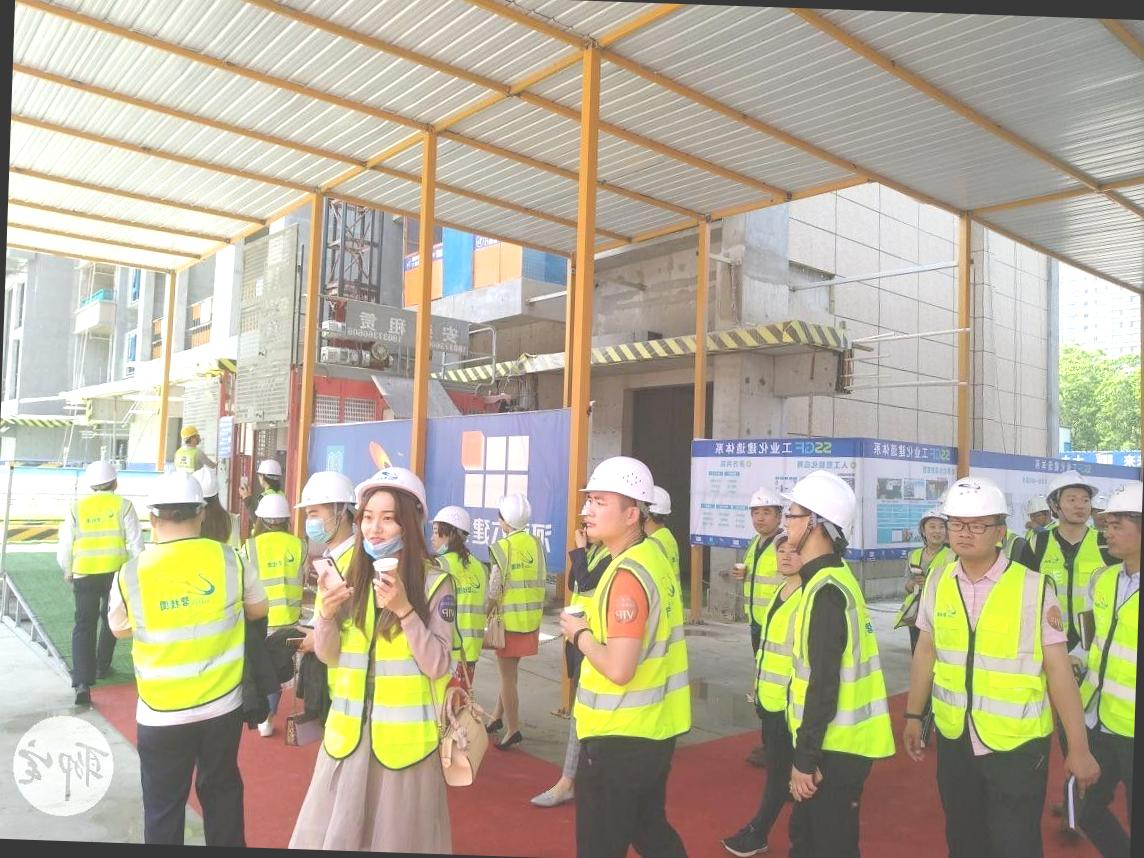helmet: (775, 464, 867, 529), (938, 476, 1016, 530), (582, 452, 667, 500), (136, 472, 211, 512)
person: (272, 454, 482, 855), (701, 454, 902, 858), (893, 468, 1075, 858), (543, 448, 707, 858), (114, 464, 262, 846)
